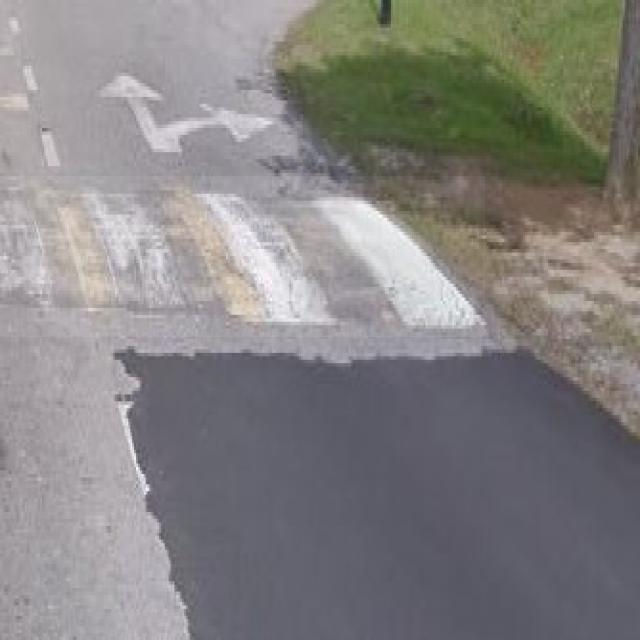speed-bump: (0, 176, 485, 337)
